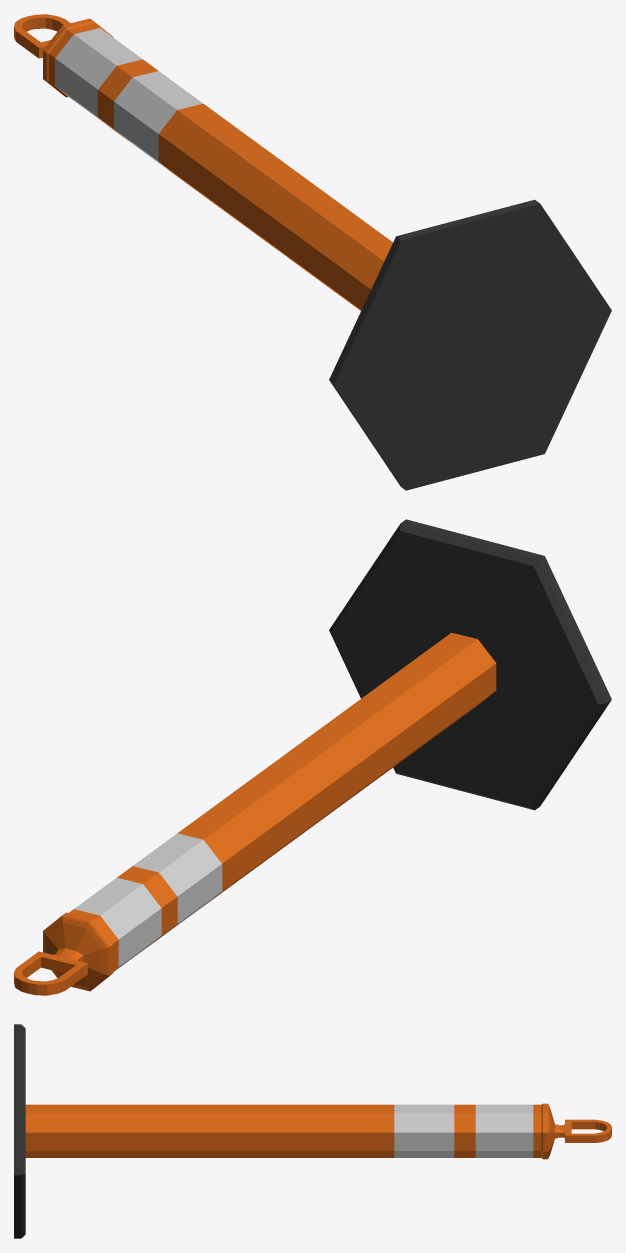
The model's file is Construction_Sign_01.fbx.
3 renders of one model, top to bottom at view 1: azimuth 30°, elevation 25°; view 2: azimuth 150°, elevation 25°; view 3: azimuth 270°, elevation 25°, orthographic. The views are drawn at different scales.
Parts seen in each view (by area): view 1: Construction_Sign_01; view 2: Construction_Sign_01; view 3: Construction_Sign_01.
Part boxes in pixels (x1=…): Construction_Sign_01: x1=14, y1=14, x2=611, y2=490; Construction_Sign_01: x1=14, y1=519, x2=611, y2=995; Construction_Sign_01: x1=14, y1=1024, x2=611, y2=1238.
Bounding box in the file's own units: 0.4618 × 0.4044 × 1.28.
